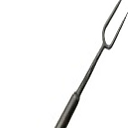Fork: (41, 1, 128, 128)
